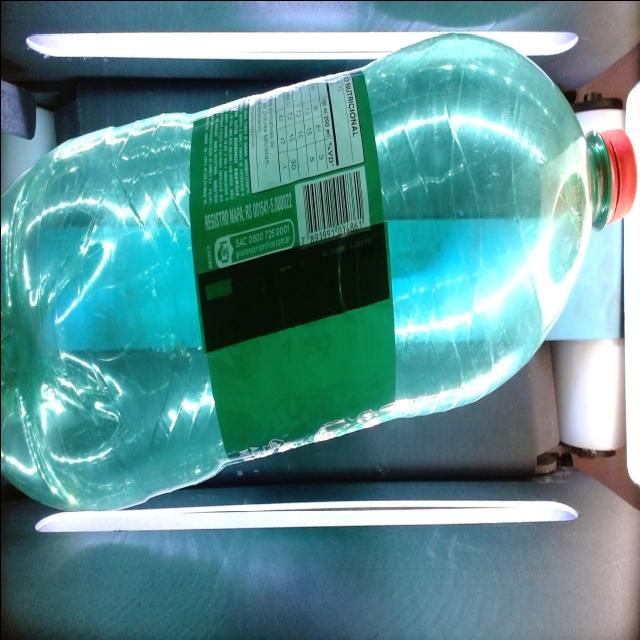bottle: (0, 34, 635, 509)
